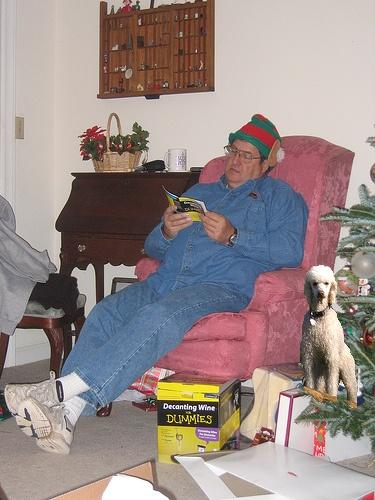tampered: (301, 266, 357, 408)
